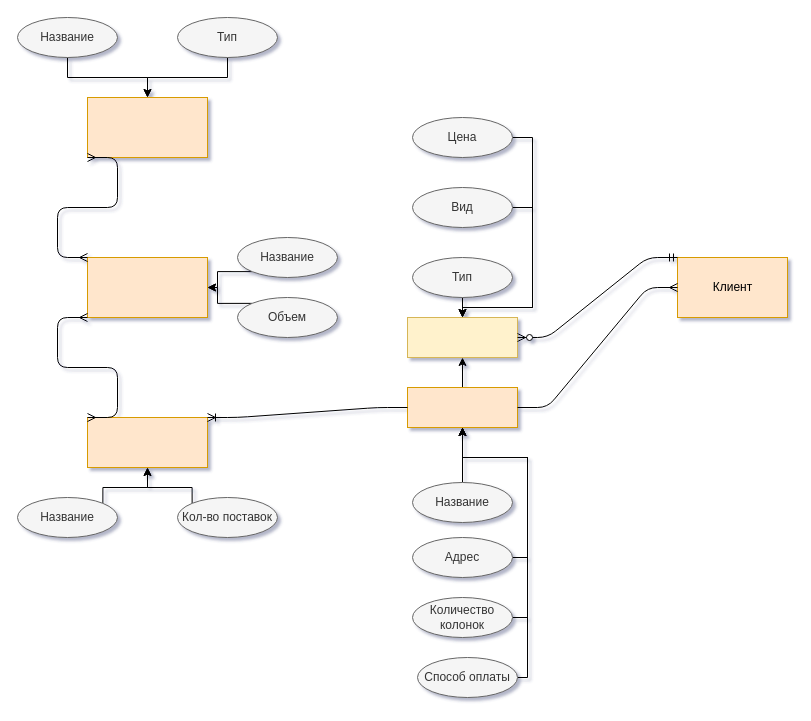
Some shapes in this 811 by 721 pixel diagram are drawn without their labels. The centre of each missing label's shape, as x and y in pixels:
"АЗС" belongs at pixel 462 407.
"Место добычи" belongs at pixel 147 127.
"Перерабатывающая организация" belongs at pixel 147 287.
"Топливо" belongs at pixel 462 337.
"Транспортная компания" belongs at pixel 147 442.
